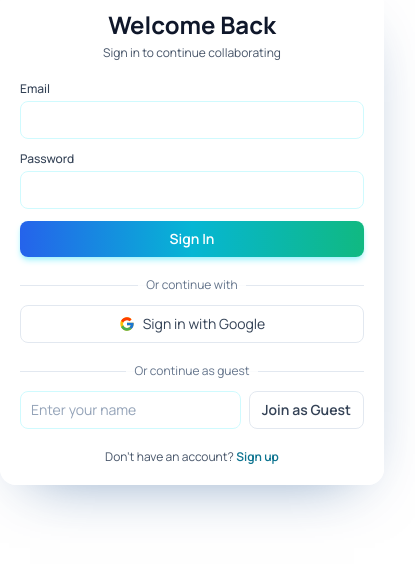
Test: LoginForm › displays error message on login failure
This screenshot has width=415, height=578.
Type "test@example.com" into the field labelled "Email".
click(192, 120); type("test@example.com")  # box [20,101,364,139]
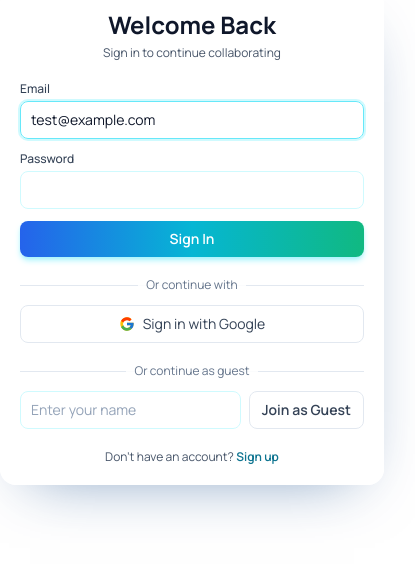
Type "wrong" into the password field labelled "Password".
click(192, 190); type("wrong")  # box [20,171,364,209]
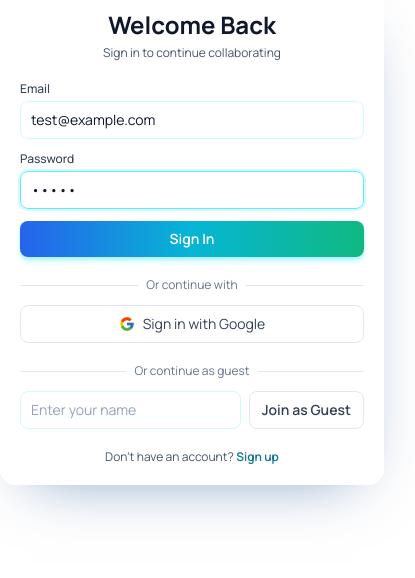
Click the button "Sign In".
click(192, 239)  # box [20,221,364,257]
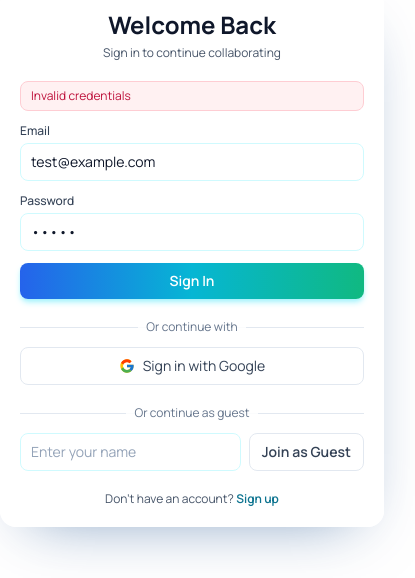
Result: the message reads "Invalid credentials" at [31,87,131,104]
